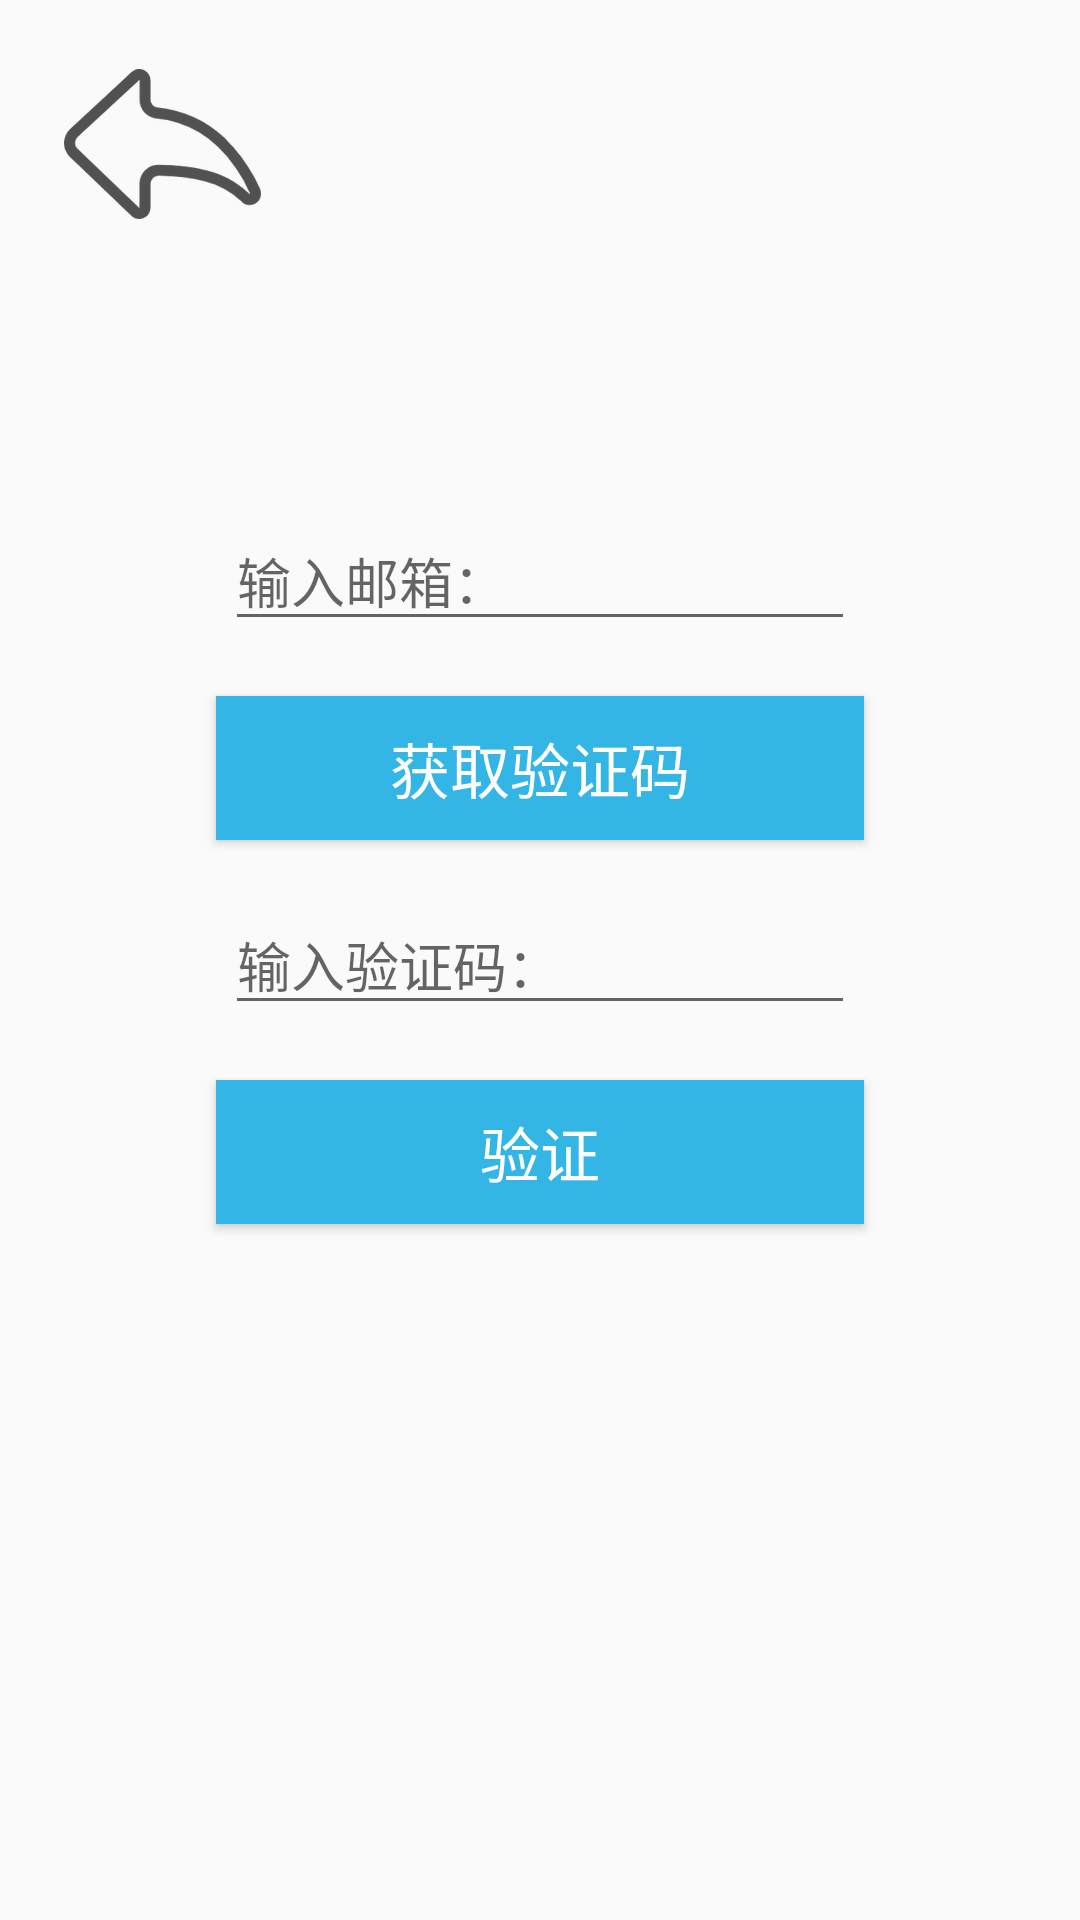

Named icons in this screenshot (1080*1920) and their centers, [x,y]:
fanhui: [162,144]
